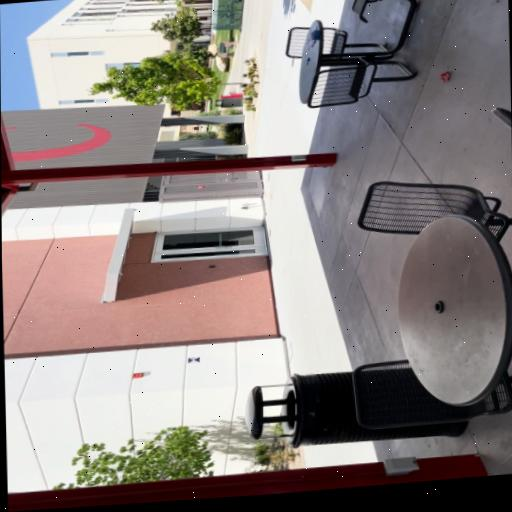target2: (188, 356, 200, 363)
